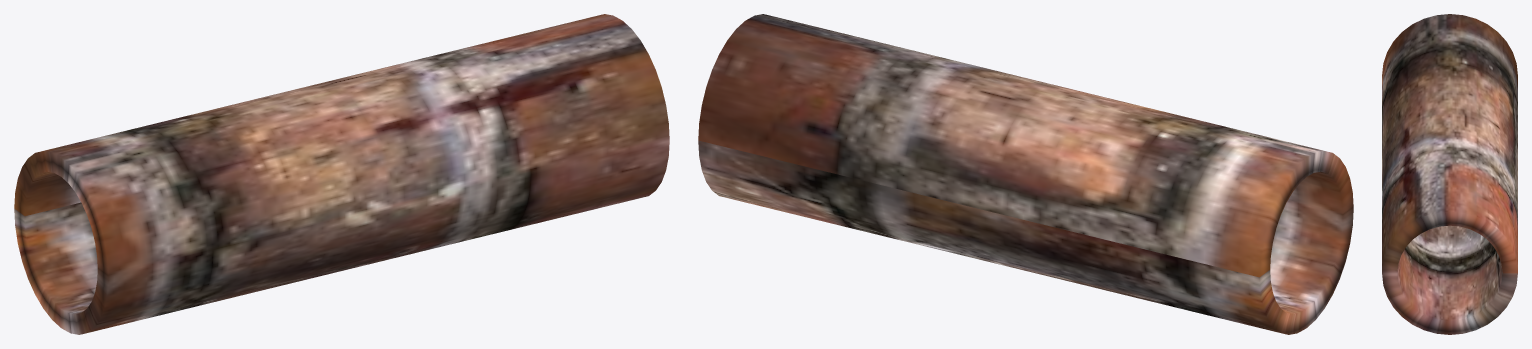
Rendered from Long_Straight_Sewer_03.fbx.
The picture shows the model from 3 angles, left to right: view 1: azimuth 30°, elevation 25°; view 2: azimuth 150°, elevation 25°; view 3: azimuth 270°, elevation 25°; orthographic projection. The views are drawn at different scales.
Parts seen in each view (by area): view 1: Long_Straight; view 2: Long_Straight; view 3: Long_Straight.
Boxes of the visible parts, left/top/right/bottom form: Long_Straight: left=14, top=14, right=669, bottom=334; Long_Straight: left=698, top=14, right=1353, bottom=334; Long_Straight: left=1382, top=14, right=1517, bottom=334.
Size of what is drawn, in the model's own units: 4000 by 1162 by 1162.
